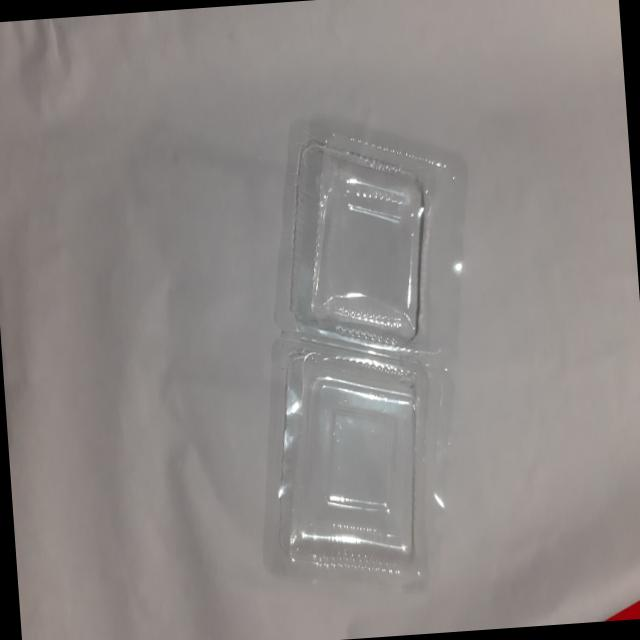KemasanPlastik: (231, 102, 497, 599)
